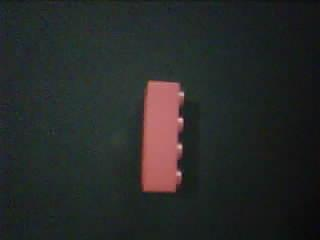lego: (138, 79, 184, 193)
